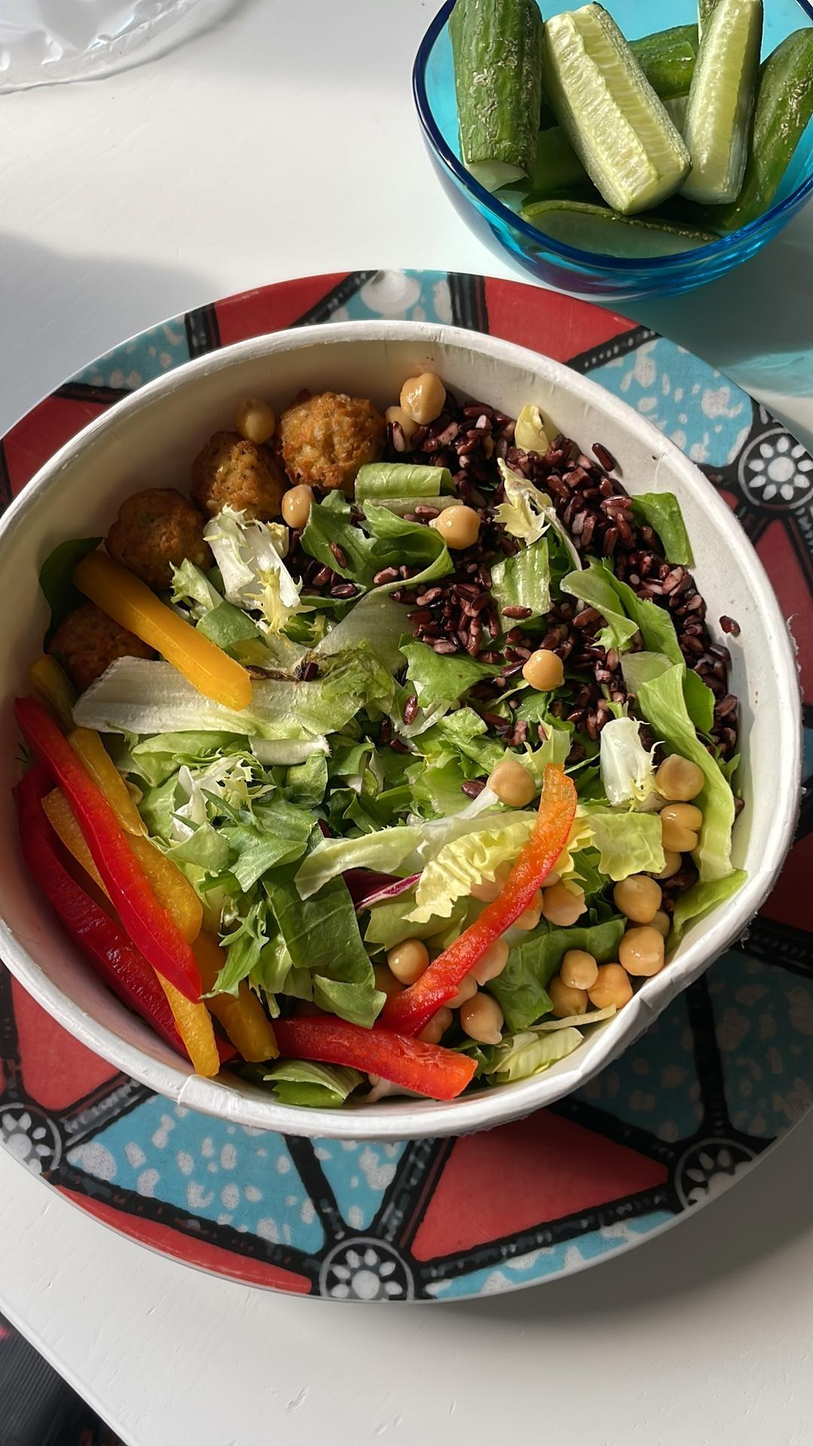bell pepper: (12, 764, 241, 1057), (4, 699, 208, 995), (373, 770, 585, 1021), (64, 544, 257, 716), (273, 1016, 482, 1104), (158, 970, 220, 1074)
lettuce: (563, 552, 739, 757), (253, 840, 397, 1020), (417, 814, 671, 914), (627, 665, 743, 876), (308, 833, 492, 918), (204, 509, 324, 625), (264, 734, 376, 855), (292, 499, 415, 592), (352, 501, 471, 597), (297, 699, 385, 794), (495, 542, 579, 639), (351, 451, 458, 516), (407, 648, 509, 712), (273, 1048, 356, 1102)
